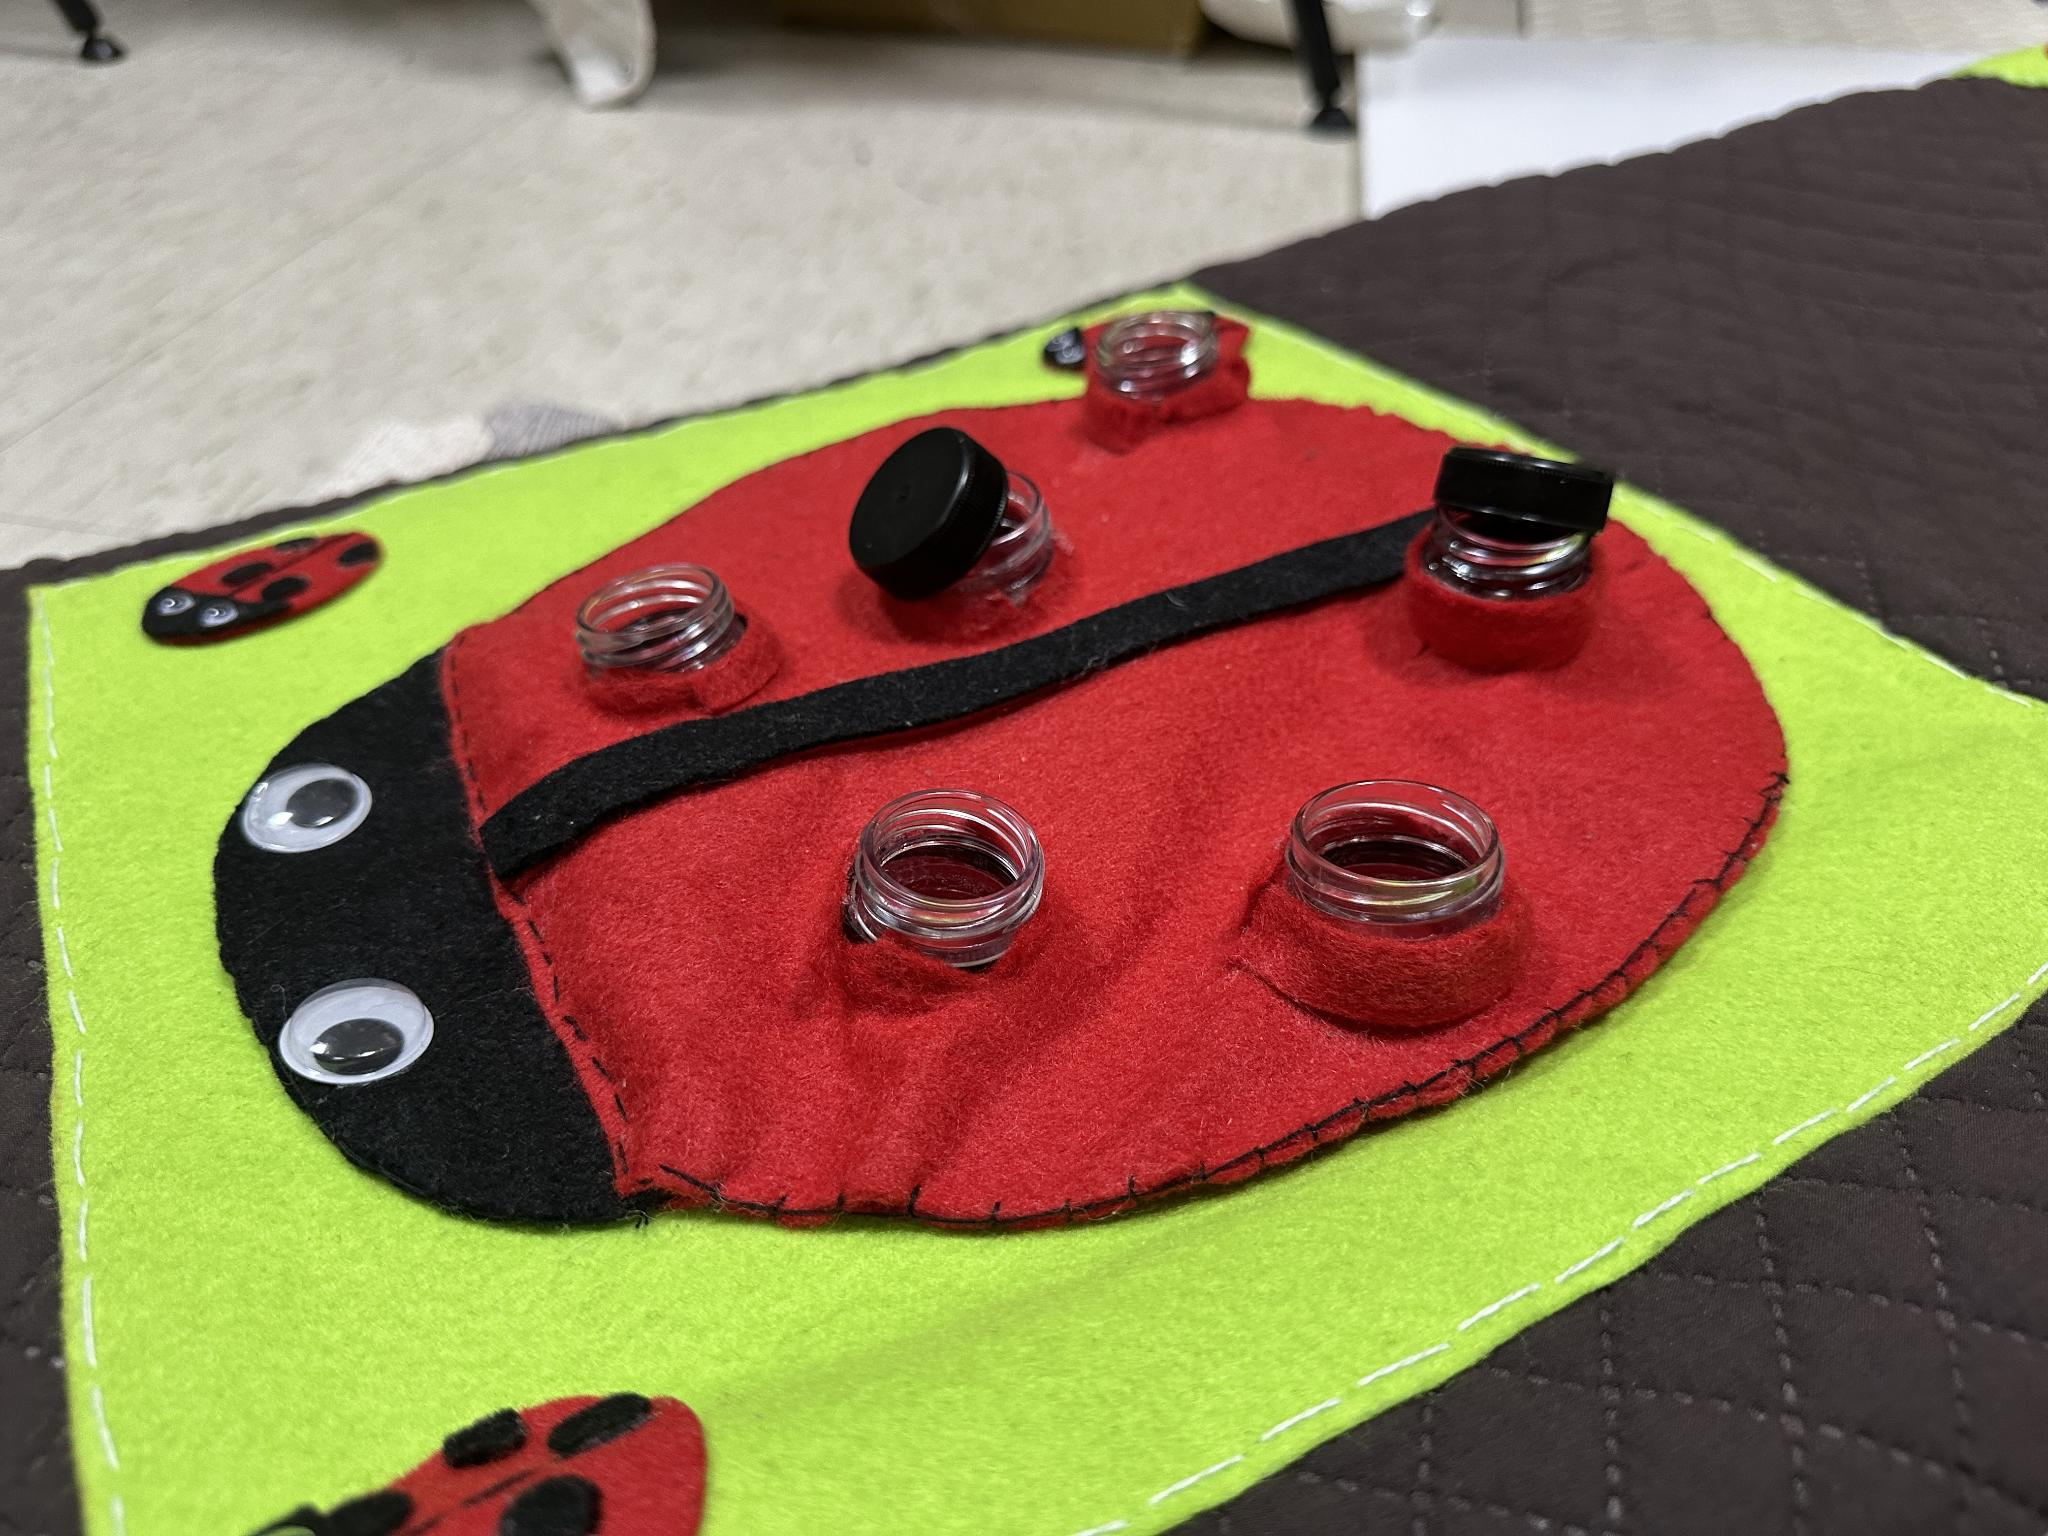cap_ng: (1397, 423, 1625, 681), (839, 419, 1089, 647)
